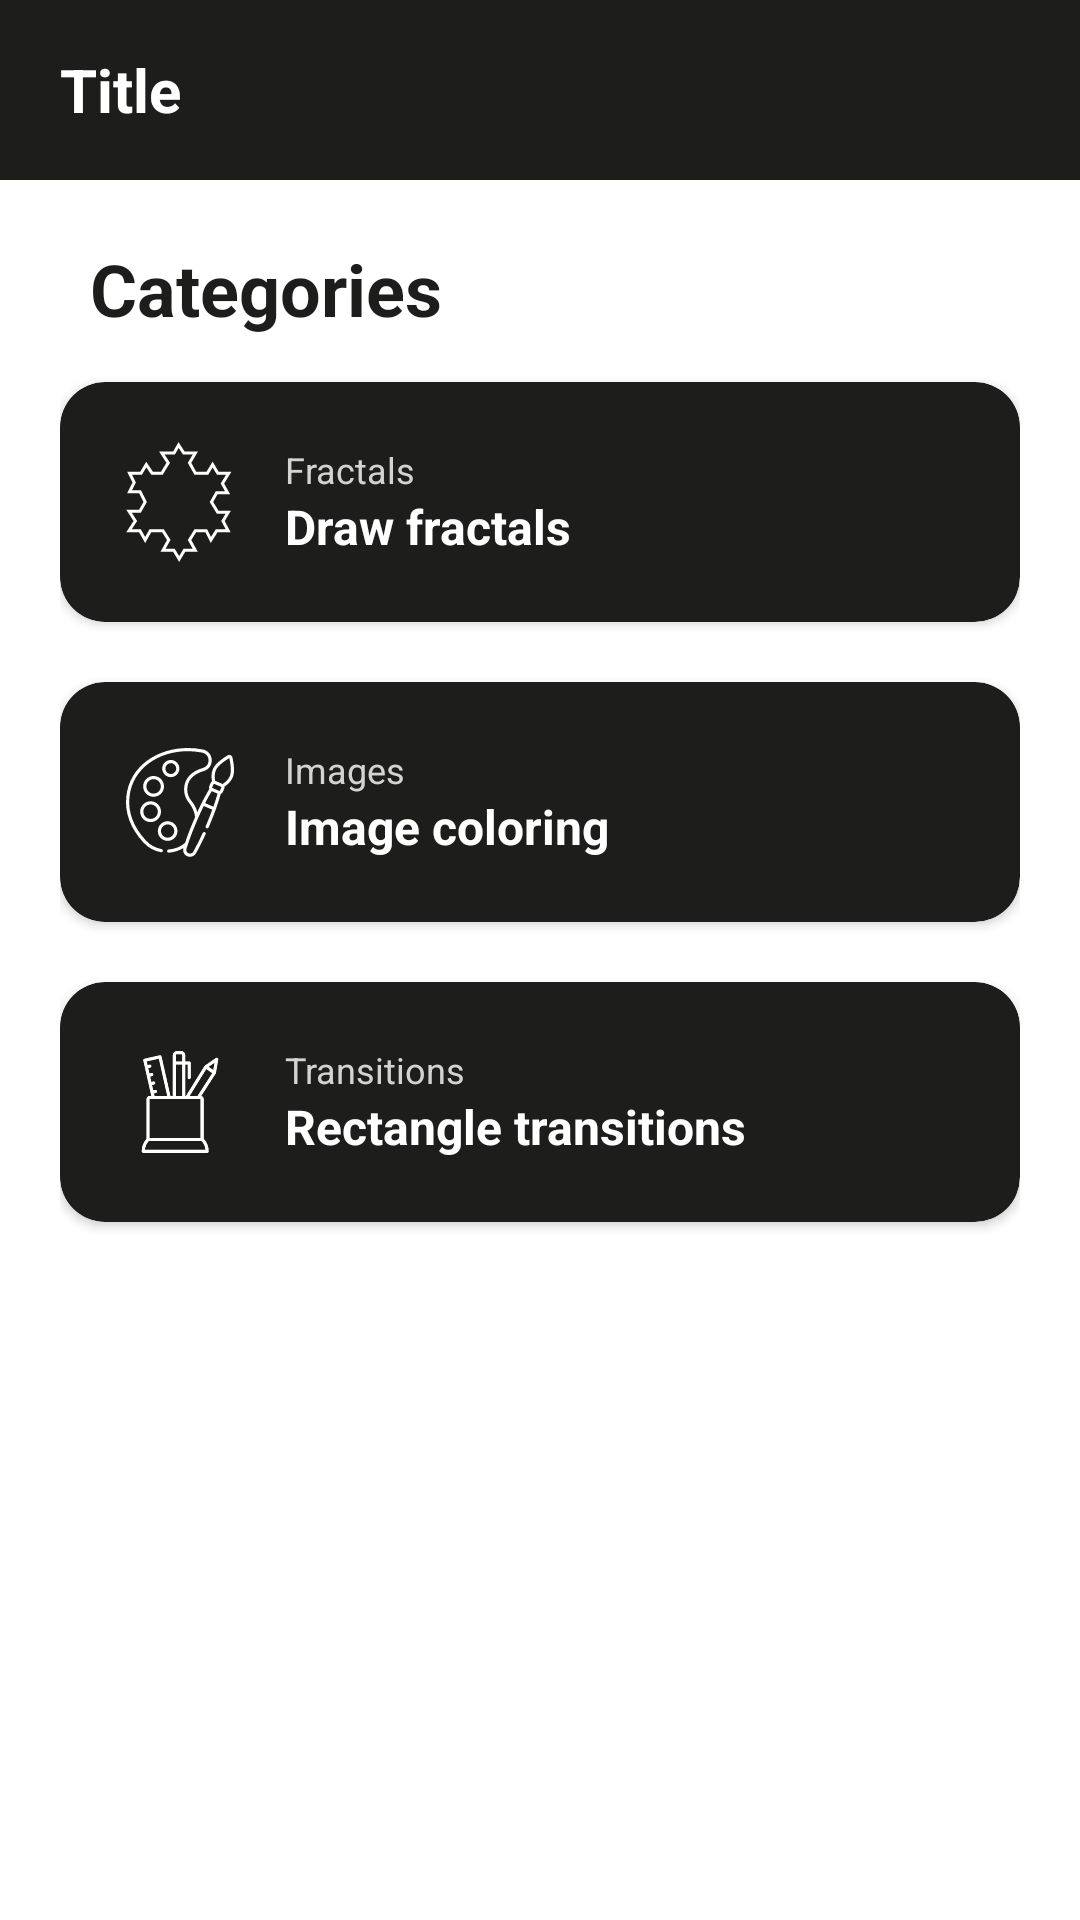

Where icons sit on this 1080px×1920px app screen, as (x1, y1, x2, y2):
instruments: (141, 1051, 219, 1153)
paint: (126, 748, 234, 857)
snow flake: (126, 442, 231, 562)
